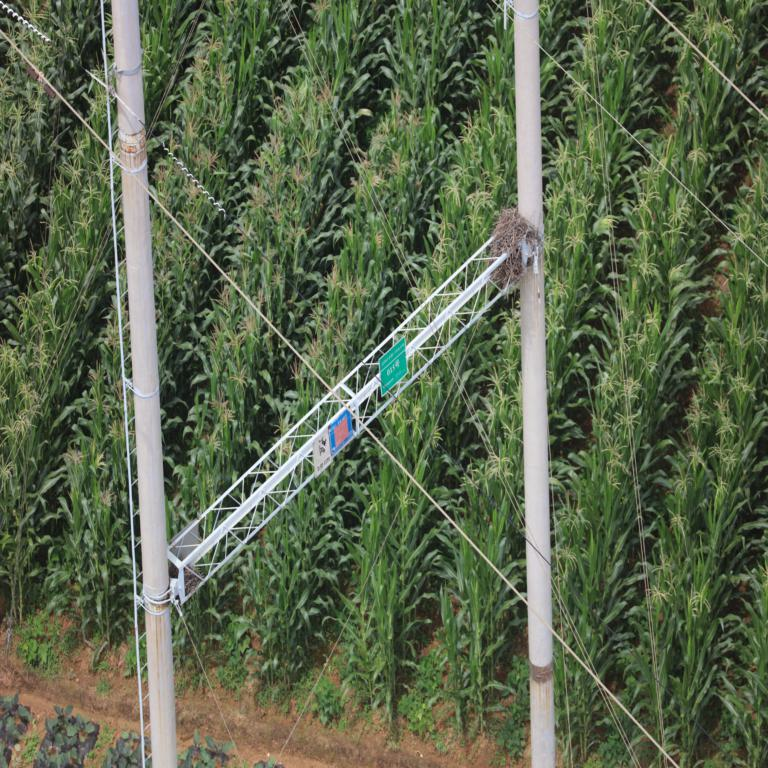nest: (487, 211, 534, 281)
